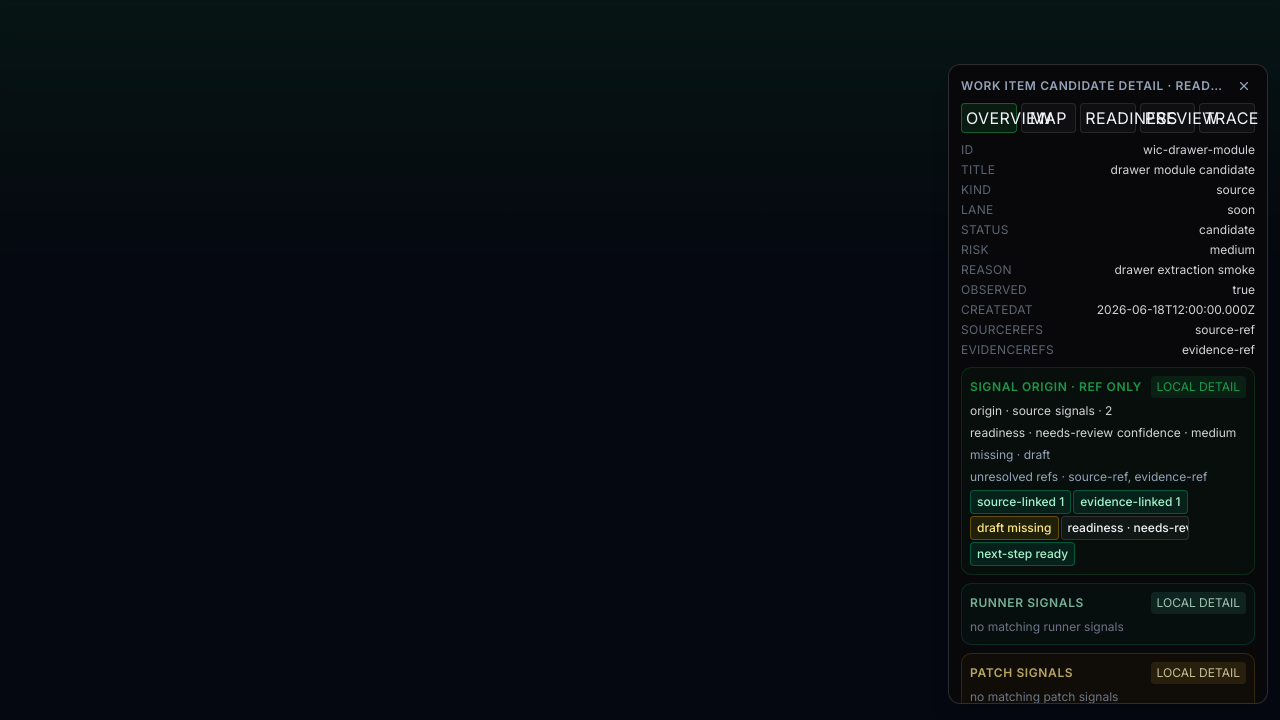
Scenario: WorkItemCandidateDetailDrawer component › renders the extracted drawer as local-detail only and keeps trace/readiness sections available
This screenshot has width=1280, height=720.
Later steps or results of the test are not shown.
Expected: the element with test id "wic-detail-field-id" shows "wic-drawer-module", [1143,142,1255,157]
Click the tab with test id "wic-detail-tab-readiness". click: (1108, 118)
box: [1080,103,1136,133]
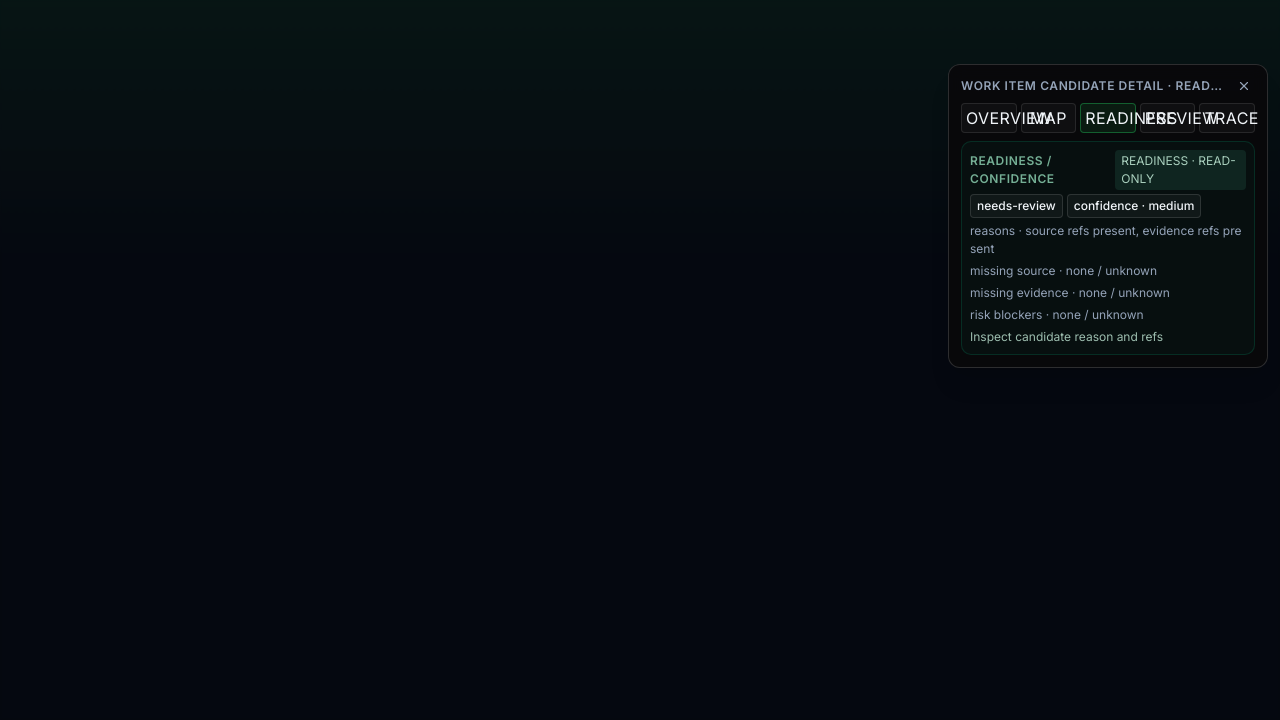
Result: the element with test id "wic-readiness-section" shows "Readiness" at [970,153,1055,186]
Click the tab with test id "wic-detail-tab-trace". click: (1227, 118)
box: [1199,103,1255,133]
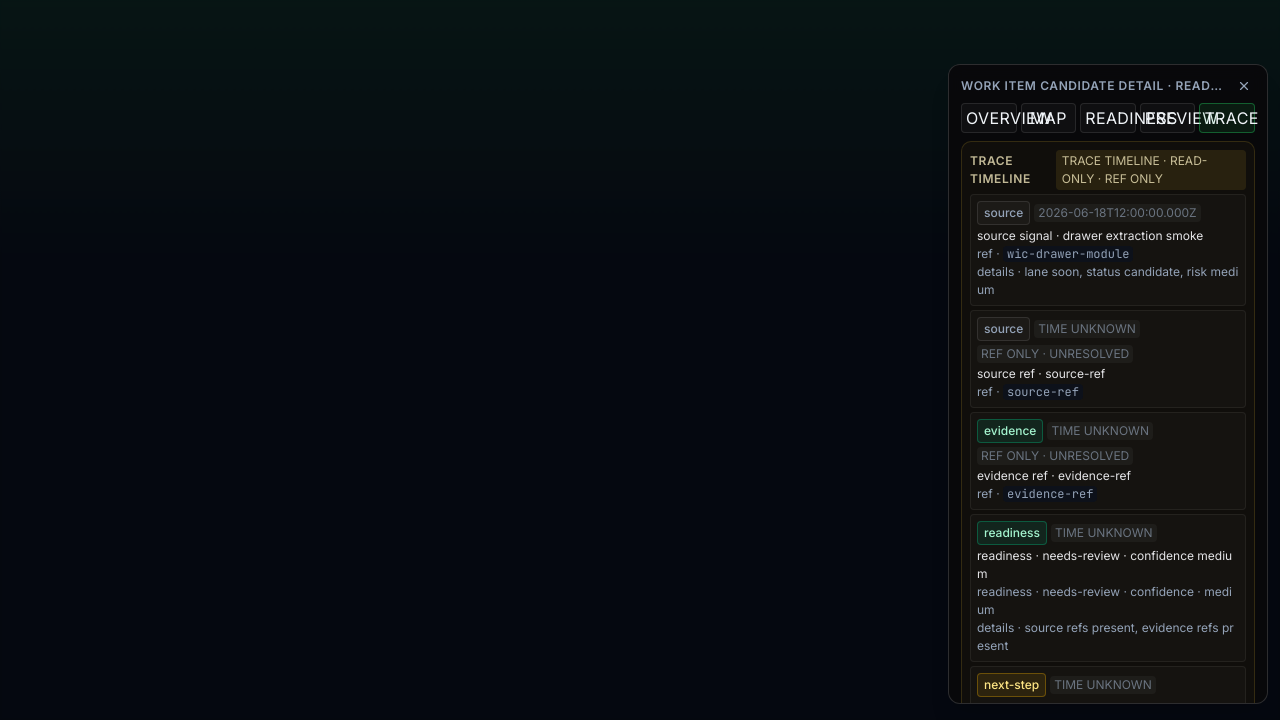
Result: the element with test id "wic-trace-timeline" shows "Trace timeline" at [970,153,1031,186]
